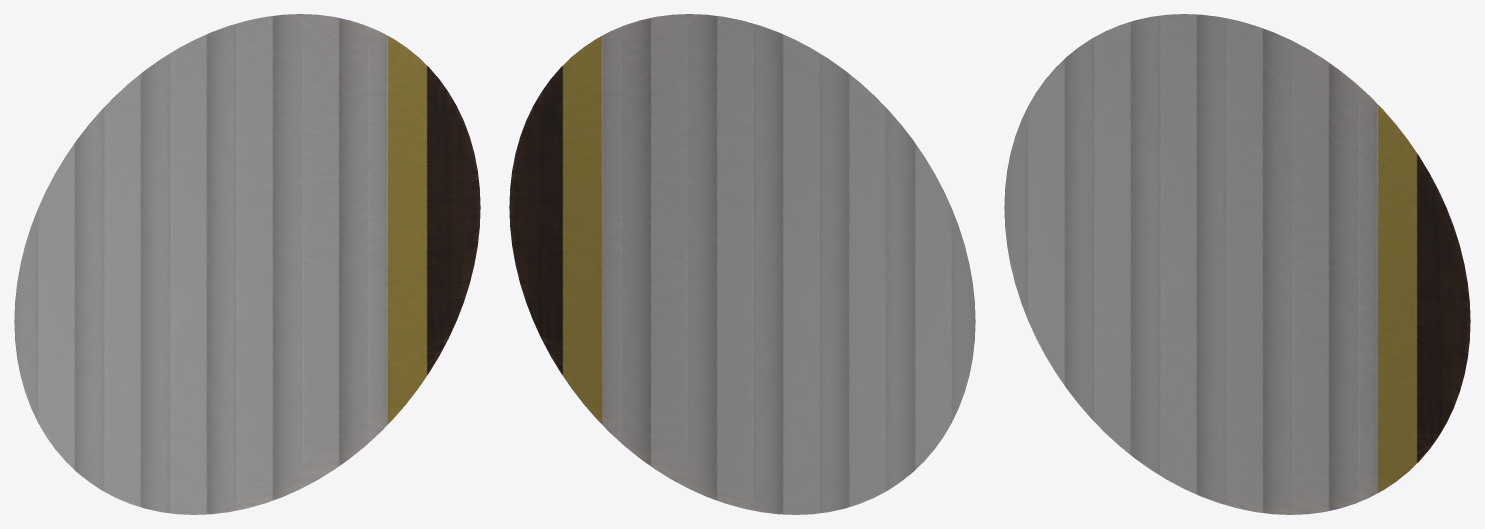
Rendered from bathroom_palmblossom_mirror.glb.
The picture shows the model from 3 angles, left to right: view 1: azimuth 30°, elevation 25°; view 2: azimuth 150°, elevation 25°; view 3: azimuth 330°, elevation 25°; orthographic projection.
Parts seen in each view (by area): view 1: mirror_Baked; view 2: mirror_Baked; view 3: mirror_Baked.
Part boxes in pixels (box(x1,y1,x2,y2)): mirror_Baked: box(14, 14, 480, 514); mirror_Baked: box(509, 14, 975, 514); mirror_Baked: box(1004, 14, 1470, 514).
Size of the model in its own units: 0.78 by 0.78 by 7.63e-08.
1 material, 1 textured.
